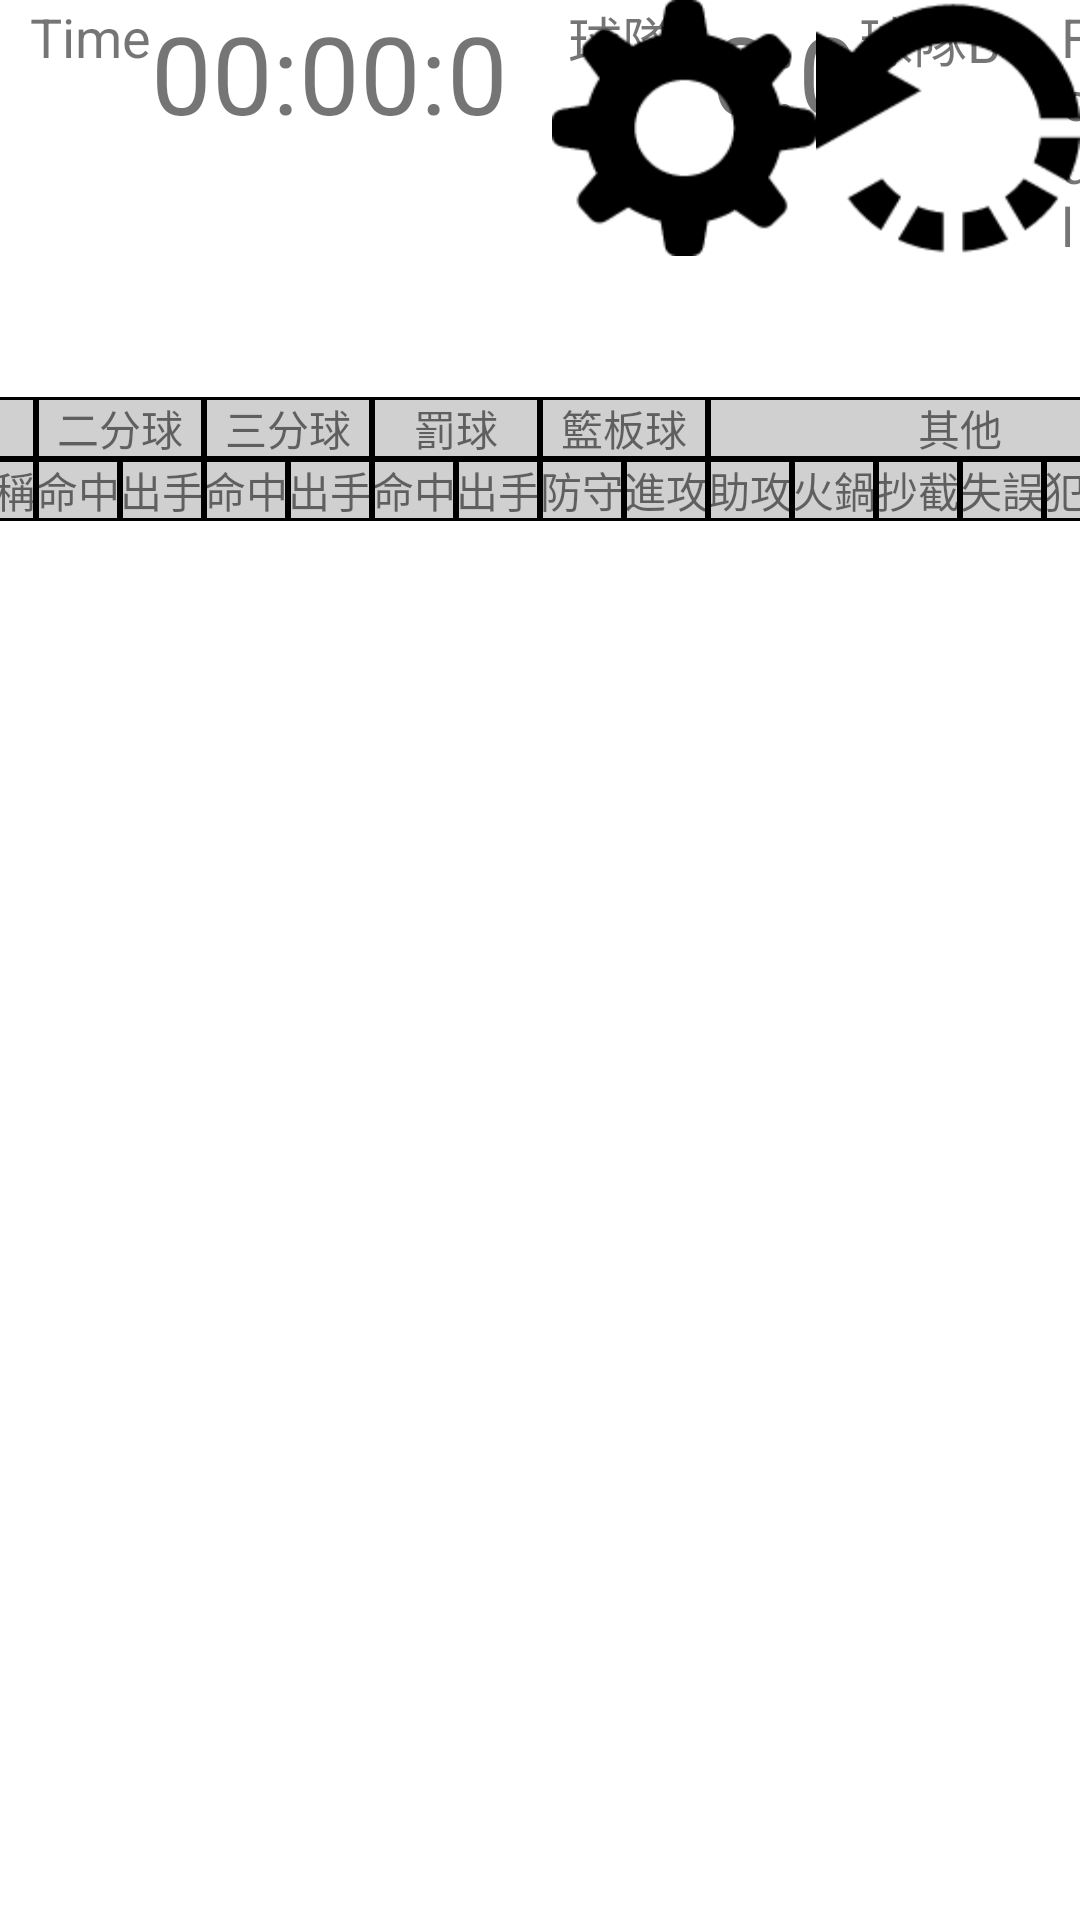

Where icons sit on this 1080×1920 app screen, as (x1, y1, x2, y2):
settings: (552, 0, 816, 256)
undo: (816, 3, 1080, 253)
